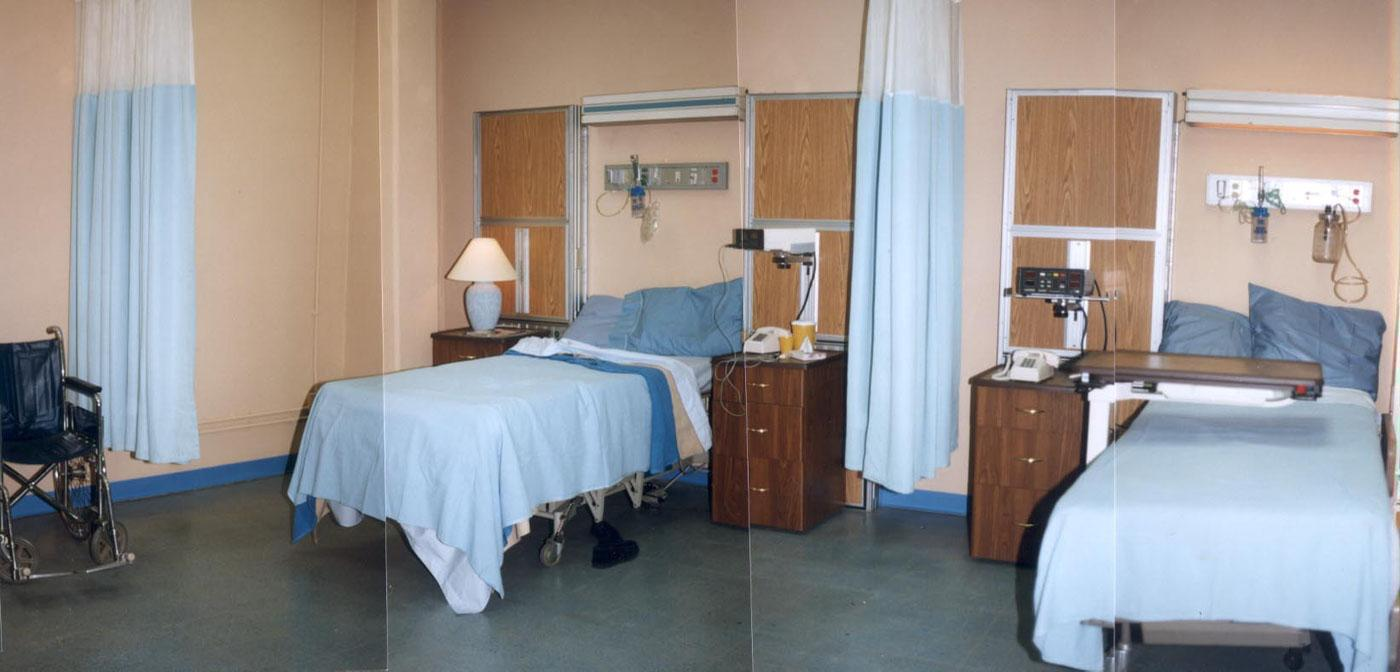Cama: (1027, 305, 1395, 664), (284, 274, 735, 551)
